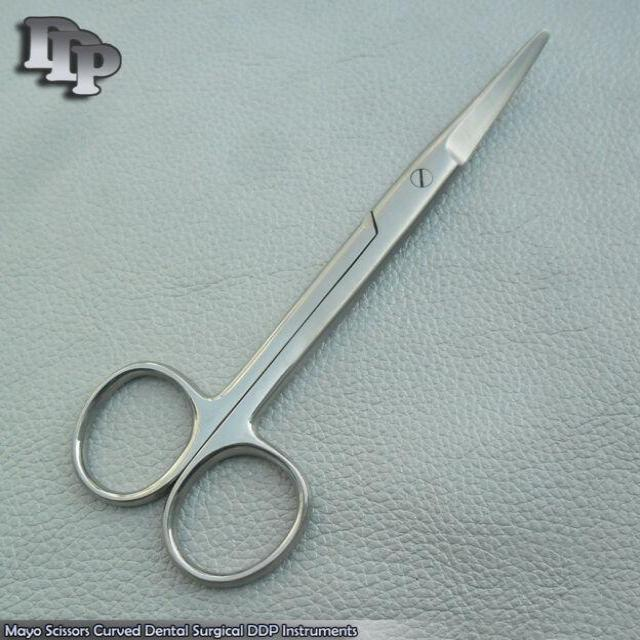Mayo_metz: (68, 27, 553, 592)
